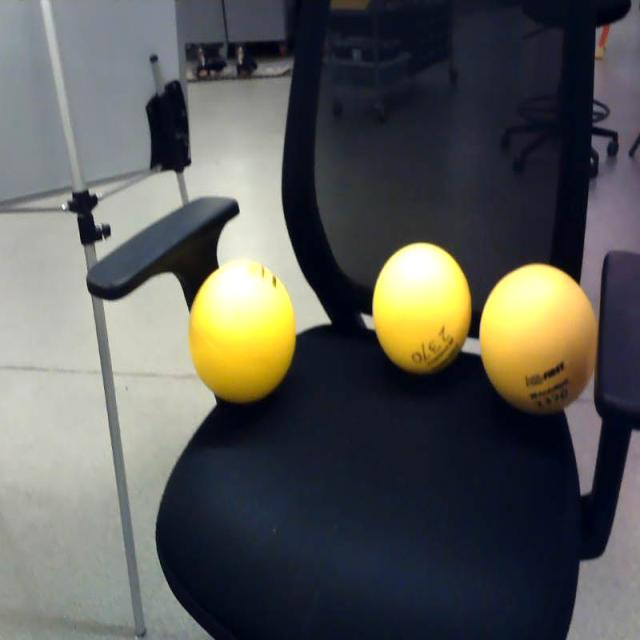Fuel: (480, 264, 598, 417), (188, 258, 296, 404), (372, 242, 472, 376)
